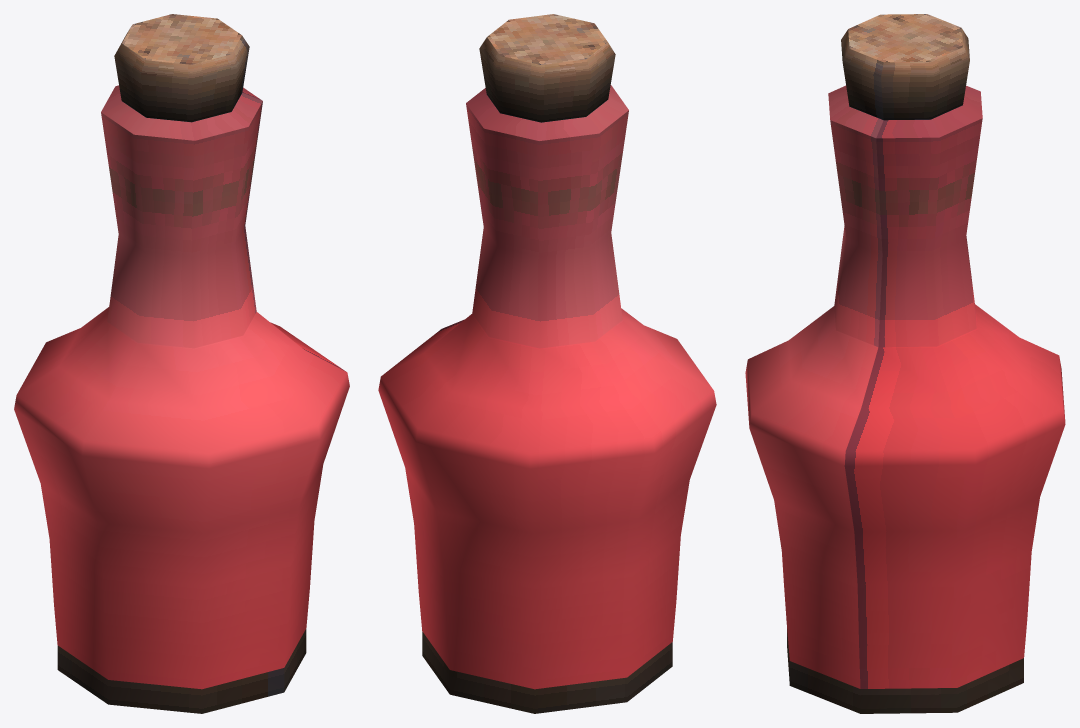
Rendered from Potion.fbx.
3 renders of one model, left to right at view 1: azimuth 30°, elevation 25°; view 2: azimuth 150°, elevation 25°; view 3: azimuth 270°, elevation 25°, orthographic.
Parts seen in each view (by area): view 1: Potion; view 2: Potion; view 3: Potion.
Boxes of the visible parts, box(x1,y1,x2,y2) form: Potion: box(14, 14, 349, 713); Potion: box(378, 14, 716, 713); Potion: box(745, 14, 1065, 713).
Bounding box in the file's own units: 21.6 × 46.59 × 21.6.
1 material, 1 textured.
